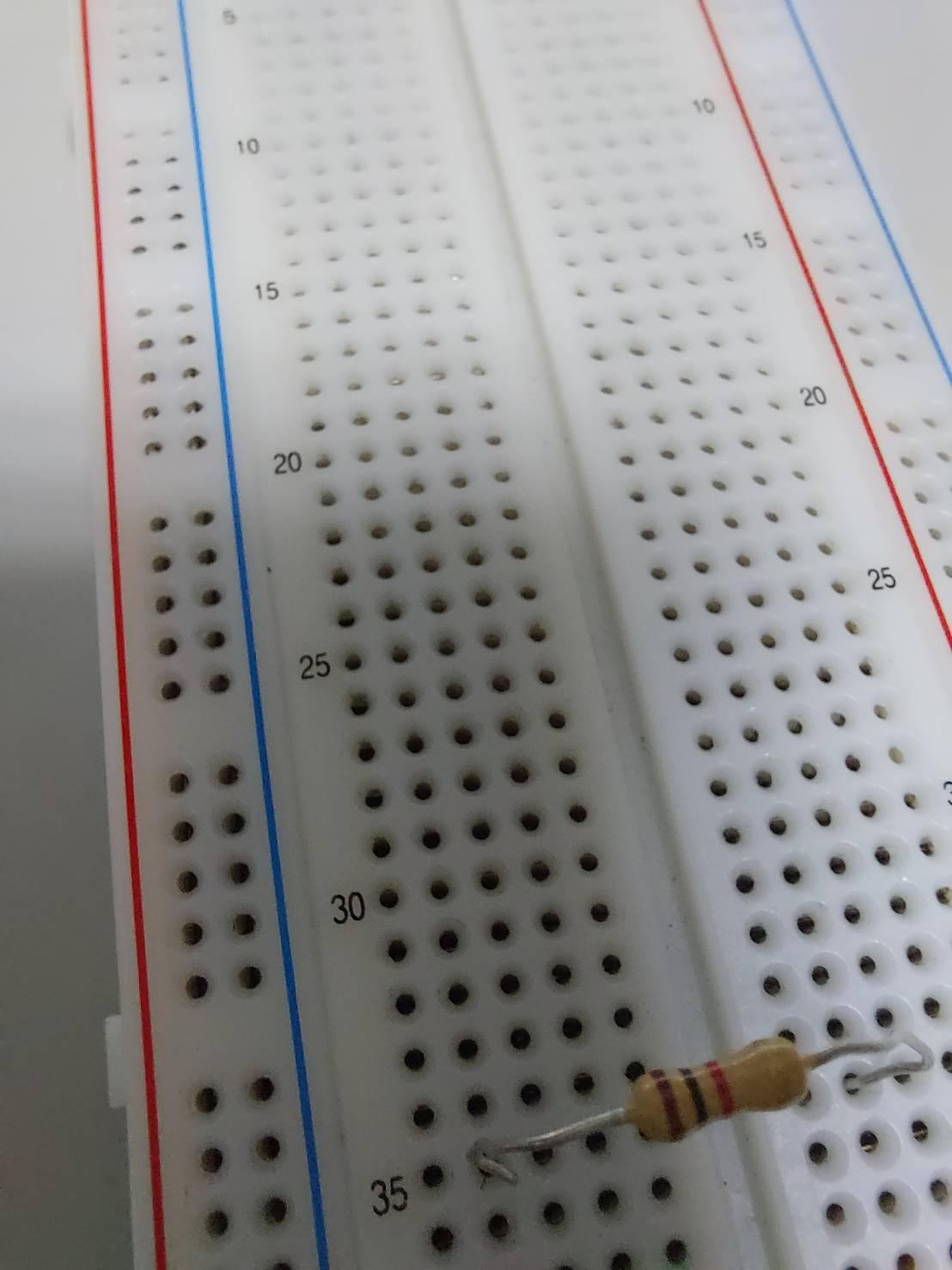resistor: (635, 1036, 814, 1140)
